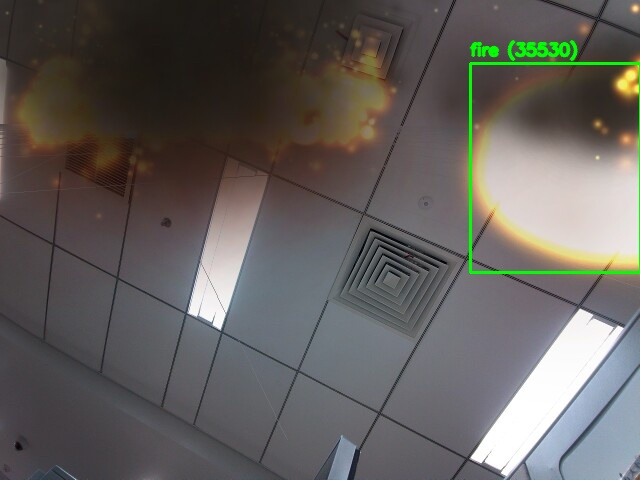fire: (470, 63, 640, 272)
